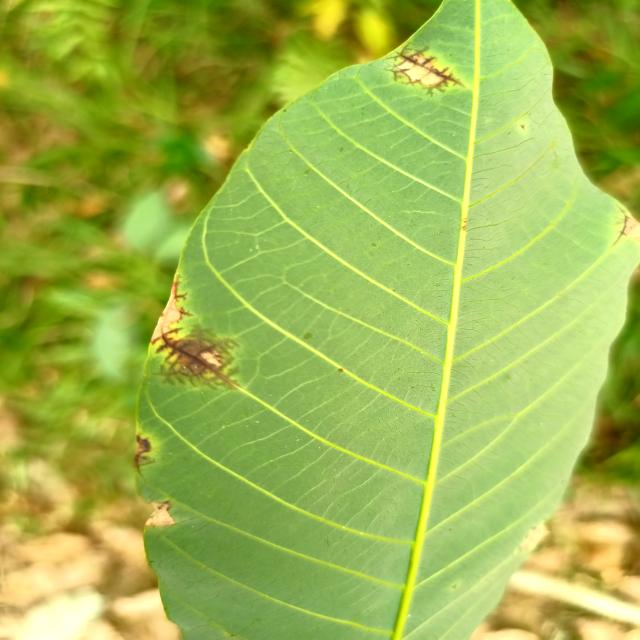Corynespora: (150, 328, 241, 392), (388, 42, 466, 97), (144, 502, 176, 528), (613, 208, 632, 244), (624, 218, 640, 239)
Leaf-Blight: (151, 285, 182, 340)
